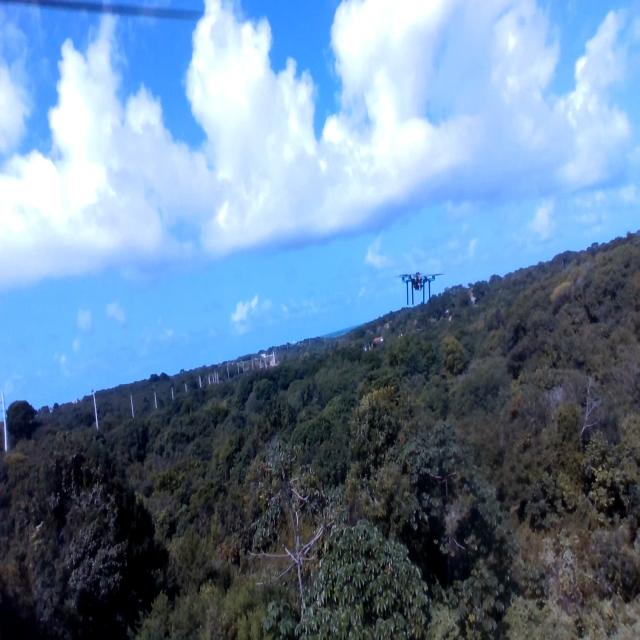-uav-: (392, 258, 447, 327)
